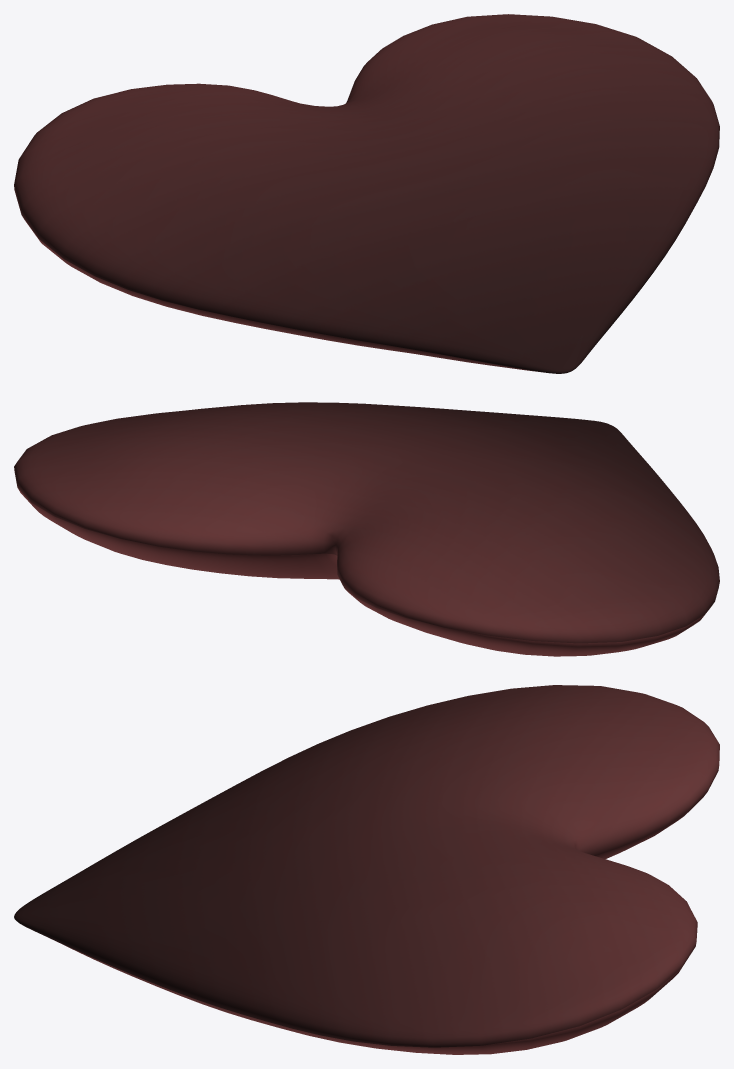
File: heart.glb
3 views of the same model, one above another, from view 1: azimuth 30°, elevation 25°; view 2: azimuth 150°, elevation 25°; view 3: azimuth 270°, elevation 25° (orthographic). The views are drawn at different scales.
Visible parts, largest first — view 1: cs_t_heart4; view 2: cs_t_heart4; view 3: cs_t_heart4.
Boxes of the visible parts, x1,y1,x2,y2 form: cs_t_heart4: (14, 14, 719, 373); cs_t_heart4: (14, 402, 719, 656); cs_t_heart4: (14, 685, 719, 1054).
Size of the model in its own units: 0.143 by 0.0292 by 0.122.
Materials: 1 (1 with a texture image).
